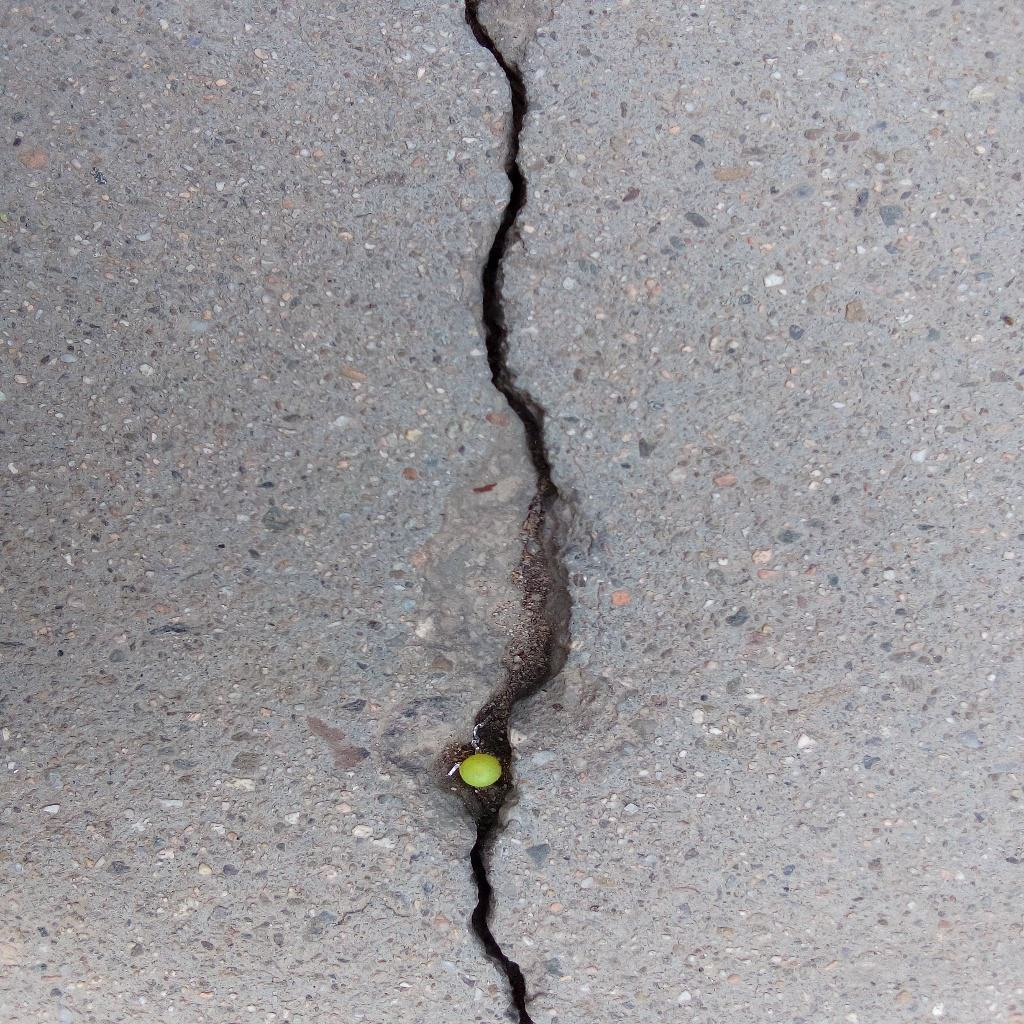Crack: (434, 1, 574, 1024)
